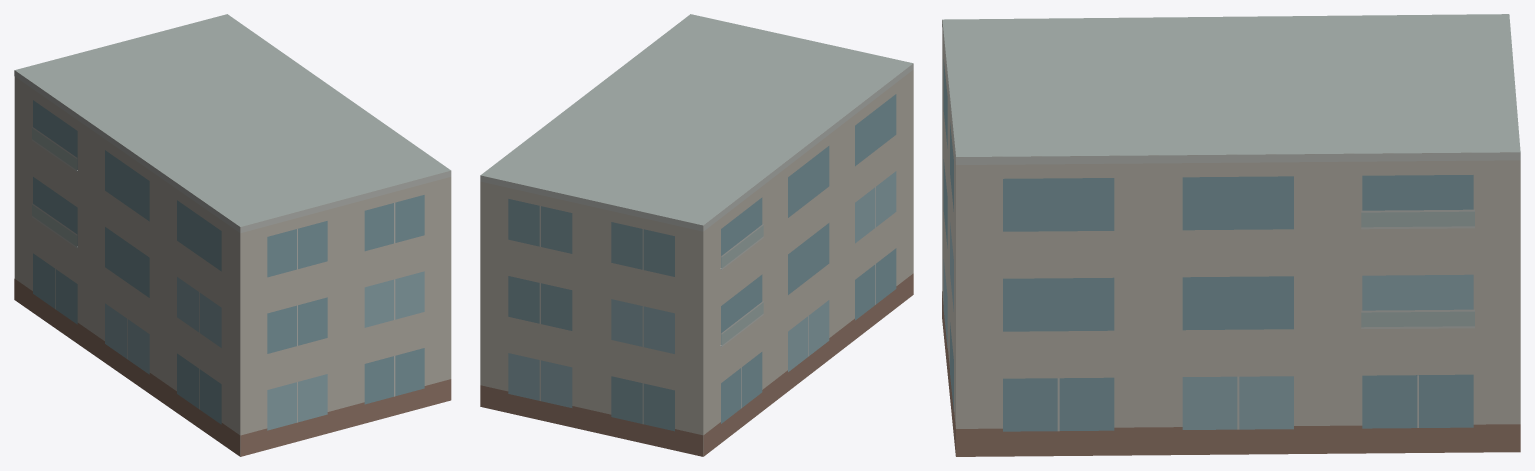
The model's file is survey-upis-32762325.glb.
3 renders of one model, left to right at view 1: azimuth 30°, elevation 25°; view 2: azimuth 150°, elevation 25°; view 3: azimuth 270°, elevation 25°, orthographic. The views are drawn at different scales.
Visible parts, largest first — view 1: survey-upis-32762325.tmp; view 2: survey-upis-32762325.tmp; view 3: survey-upis-32762325.tmp.
Boxes of the visible parts, box(x1,y1,x2,y2) form: survey-upis-32762325.tmp: box(14, 14, 451, 456); survey-upis-32762325.tmp: box(480, 14, 913, 456); survey-upis-32762325.tmp: box(942, 14, 1520, 456).
Size of the model in its own units: 9.38 by 9.15 by 16.01.
